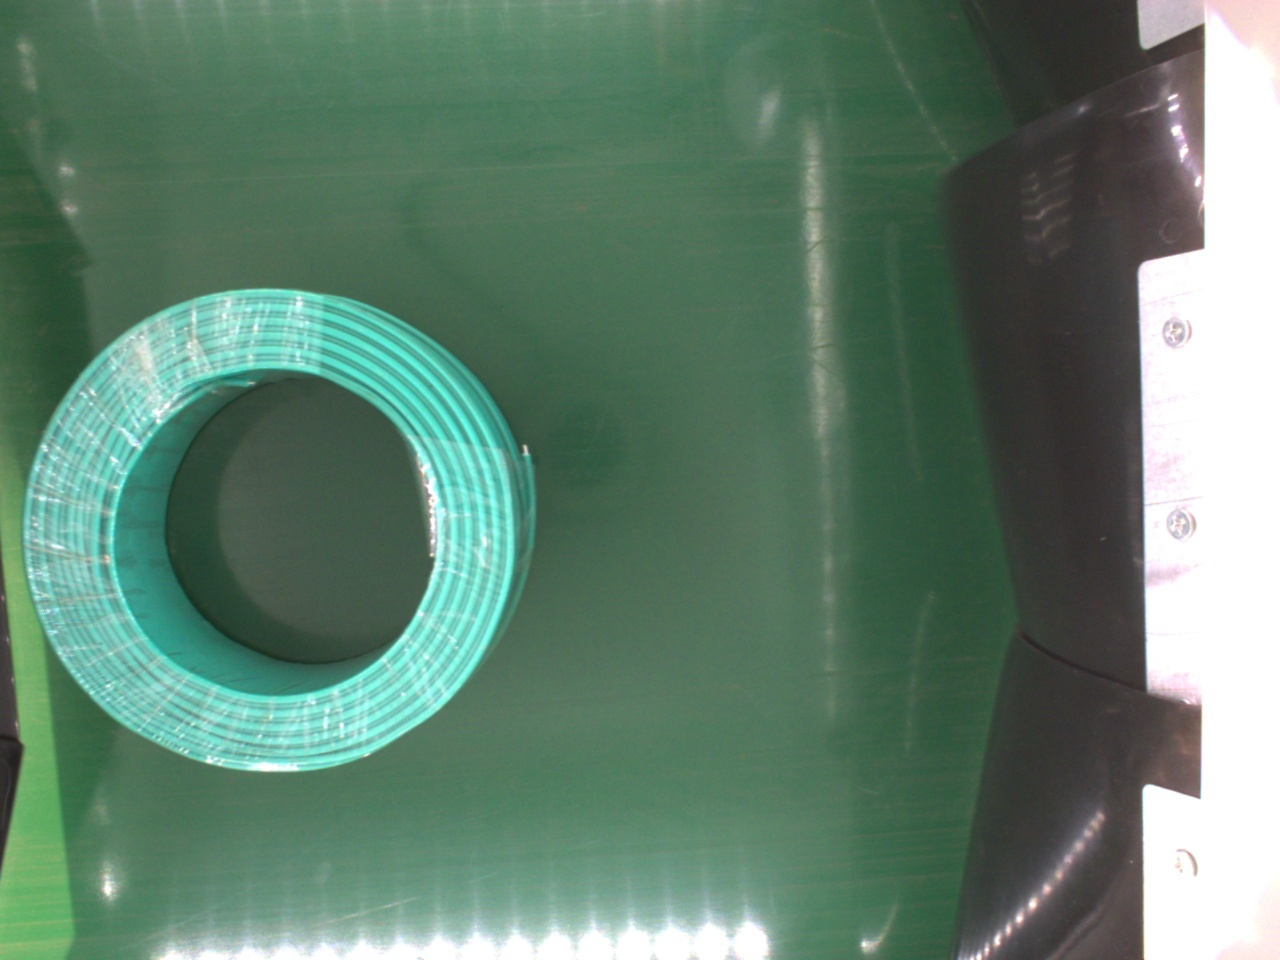green: (18, 285, 539, 776)
